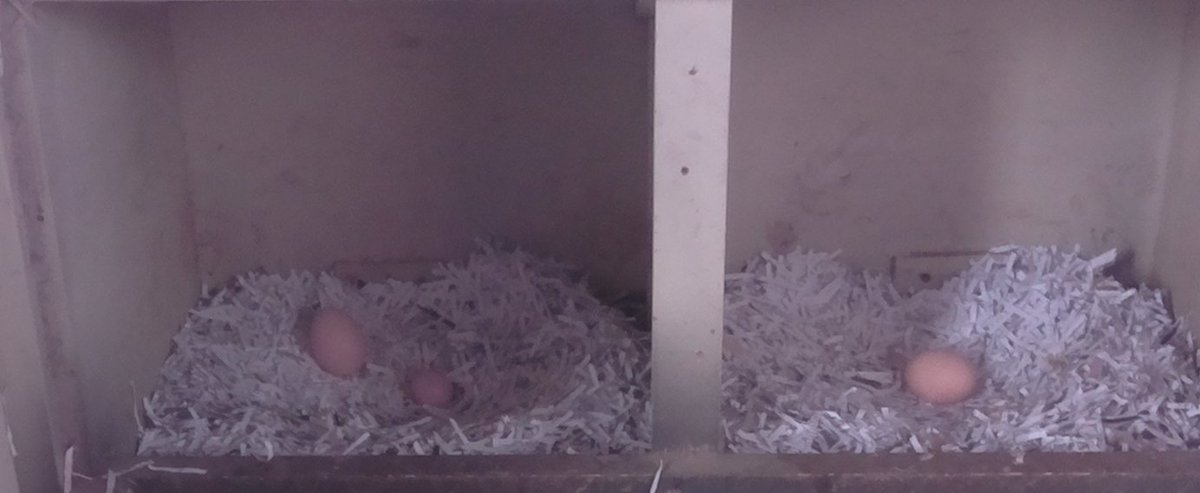egg: (304, 305, 372, 383), (898, 344, 980, 405), (405, 362, 455, 413)
